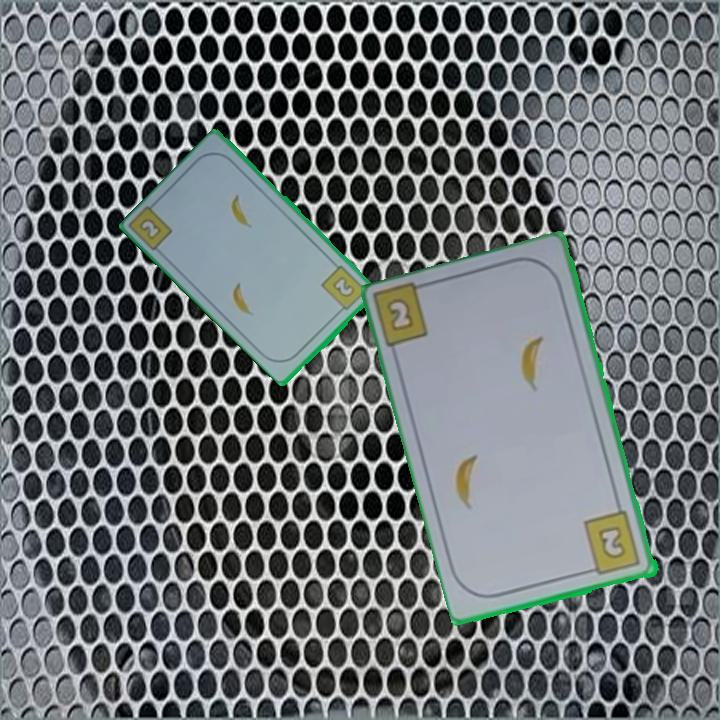2b: (580, 508, 644, 579), (318, 262, 370, 316), (127, 197, 176, 254), (383, 294, 417, 335)
